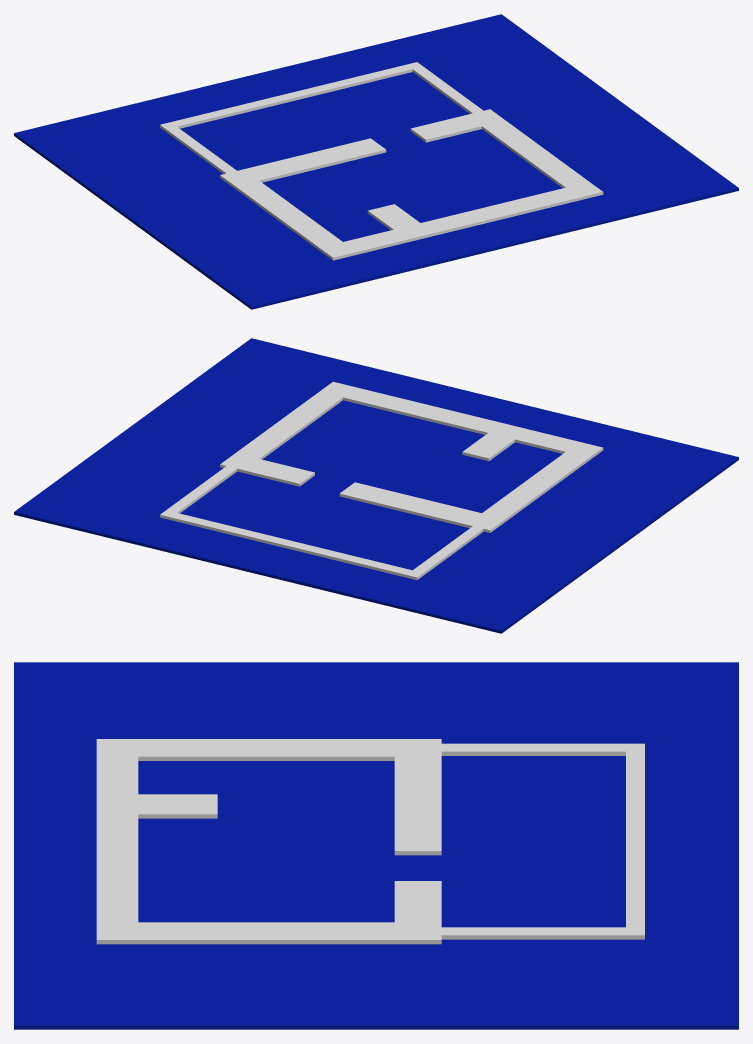
File: Blueprint_001.fbx
3 renders of one model, top to bottom at view 1: azimuth 30°, elevation 25°; view 2: azimuth 150°, elevation 25°; view 3: azimuth 270°, elevation 25°, orthographic. The views are drawn at different scales.
Parts seen in each view (by area): view 1: Blueprint_Paper, Wall_Layout_001; view 2: Blueprint_Paper, Wall_Layout_001; view 3: Blueprint_Paper, Wall_Layout_001.
Part boxes in pixels (x1,y1,x2,y2): Blueprint_Paper: (14,14,738,309); Wall_Layout_001: (160,62,603,260); Blueprint_Paper: (14,338,738,633); Wall_Layout_001: (160,381,603,579); Blueprint_Paper: (14,662,738,1029); Wall_Layout_001: (96,739,644,944).
Bounding box in the file's own units: 0.9 × 0.7594 × 0.01.
